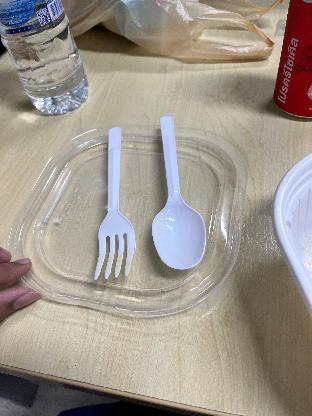Others: (145, 110, 212, 278), (92, 124, 138, 286)
